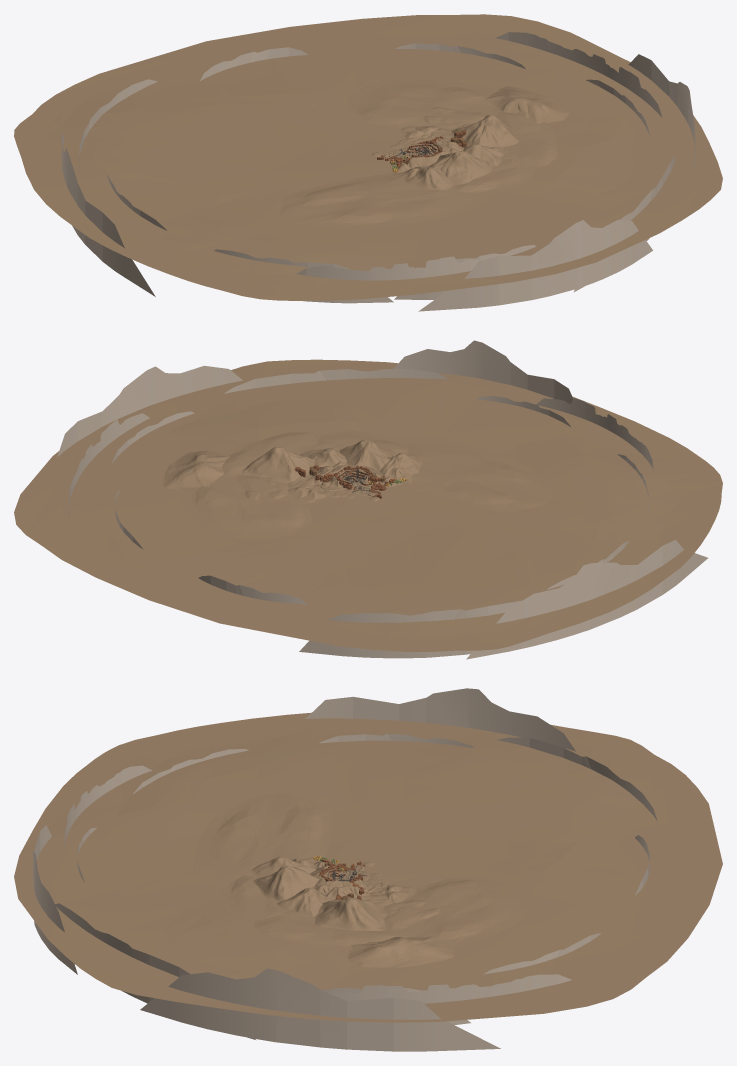
File: Query.glb
3 views of the same model, one above another, from view 1: azimuth 30°, elevation 25°; view 2: azimuth 150°, elevation 25°; view 3: azimuth 270°, elevation 25° (orthographic). The views are drawn at different scales.
Parts seen in each view (by area): view 1: SM_Env_Mound_Large_02__62_, SM_Env_BackgroundCard_03__1_, SM_Env_Mound_Large_02__61_, SM_Env_Mound_Large_02__55_, SM_Env_BackgroundCard_03__3_, SM_Env_BackgroundCard_02__1_, SM_Env_Mound_Large_02__58_, SM_Env_BackgroundCard_02__2_, SM_Env_Mound_Hill_02__14_, SM_Env_Mound_Large_02__59_, SM_Env_BackgroundCard_03__2_, SM_Env_Mound_Hill_01__15_ (+10 smaller); view 2: SM_Env_Mound_Large_02__62_, SM_Env_Mound_Large_02__61_, SM_Env_BackgroundCard_03__3_, SM_Env_Mound_Large_02__55_, SM_Env_BackgroundCard_03__2_, SM_Env_BackgroundCard_03__1_, SM_Env_BackgroundCard_01__6_, SM_Env_Mound_Large_02__58_, SM_Env_BackgroundCard_01__5_, SM_Env_Mound_Hill_02__14_, SM_Env_Mound_Hill_01__15_, SM_Env_BackgroundCard_02__1_ (+8 smaller); view 3: SM_Env_Mound_Large_02__62_, SM_Env_BackgroundCard_03__2_, SM_Env_Mound_Large_02__61_, SM_Env_Mound_Large_02__55_, SM_Env_BackgroundCard_03__3_, SM_Env_BackgroundCard_02__2_, SM_Env_Mound_Large_02__58_, SM_Env_Mound_Hill_02__14_, SM_Env_Mound_Hill_01__15_, SM_Env_Mound_Large_02__59_, SM_Env_BackgroundCard_01__6_, SM_Env_BackgroundCard_01__5_ (+8 smaller).
Part boxes in pixels (bbox=[...]): SM_Env_Mound_Large_02__62_: bbox=[14, 14, 722, 300]; SM_Env_BackgroundCard_03__1_: bbox=[418, 220, 652, 311]; SM_Env_Mound_Large_02__61_: bbox=[279, 173, 490, 229]; SM_Env_Mound_Large_02__55_: bbox=[346, 79, 500, 128]; SM_Env_BackgroundCard_03__3_: bbox=[61, 134, 155, 296]; SM_Env_BackgroundCard_02__1_: bbox=[296, 256, 486, 280]; SM_Env_Mound_Large_02__58_: bbox=[456, 108, 558, 167]; SM_Env_BackgroundCard_02__2_: bbox=[495, 32, 662, 117]; SM_Env_Mound_Hill_02__14_: bbox=[484, 86, 569, 123]; SM_Env_Mound_Large_02__59_: bbox=[452, 149, 535, 194]; SM_Env_BackgroundCard_03__2_: bbox=[628, 54, 695, 169]; SM_Env_Mound_Hill_01__15_: bbox=[451, 115, 519, 147]; SM_Env_Mound_Large_02__62_: bbox=[14, 359, 722, 651]; SM_Env_Mound_Large_02__61_: bbox=[397, 436, 553, 511]; SM_Env_BackgroundCard_03__3_: bbox=[466, 540, 707, 659]; SM_Env_Mound_Large_02__55_: bbox=[179, 475, 311, 539]; SM_Env_BackgroundCard_03__2_: bbox=[57, 365, 242, 457]; SM_Env_BackgroundCard_03__1_: bbox=[393, 340, 573, 403]; SM_Env_BackgroundCard_01__6_: bbox=[299, 600, 521, 658]; SM_Env_Mound_Large_02__58_: bbox=[219, 432, 320, 482]; SM_Env_BackgroundCard_01__5_: bbox=[223, 369, 448, 393]; SM_Env_Mound_Hill_02__14_: bbox=[163, 450, 229, 490]; SM_Env_Mound_Hill_01__15_: bbox=[242, 447, 314, 483]; SM_Env_BackgroundCard_02__1_: bbox=[536, 398, 653, 470]; SM_Env_Mound_Large_02__62_: bbox=[14, 712, 722, 1022]; SM_Env_BackgroundCard_03__2_: bbox=[140, 968, 500, 1051]; SM_Env_Mound_Large_02__61_: bbox=[193, 793, 331, 889]; SM_Env_Mound_Large_02__55_: bbox=[384, 876, 533, 949]; SM_Env_BackgroundCard_03__3_: bbox=[305, 688, 575, 751]; SM_Env_BackgroundCard_02__2_: bbox=[328, 974, 571, 1003]; SM_Env_Mound_Large_02__58_: bbox=[253, 908, 407, 950]; SM_Env_Mound_Hill_02__14_: bbox=[348, 936, 454, 967]; SM_Env_Mound_Hill_01__15_: bbox=[315, 897, 386, 931]; SM_Env_Mound_Large_02__59_: bbox=[220, 875, 310, 920]; SM_Env_BackgroundCard_01__6_: bbox=[497, 737, 657, 820]; SM_Env_BackgroundCard_01__5_: bbox=[55, 903, 255, 1039].
Bounding box in the file's own units: 1527 × 181 × 1465.
9 materials, 5 textured.
